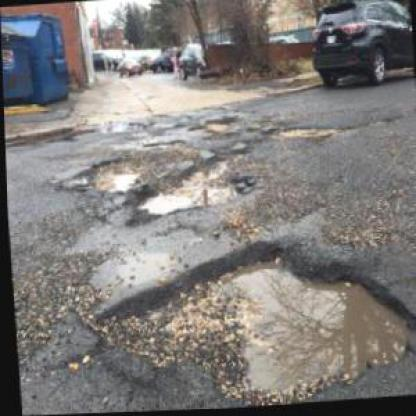pothole: (83, 229, 415, 413), (124, 151, 260, 232), (71, 154, 147, 197), (278, 122, 347, 141), (203, 118, 232, 134)
